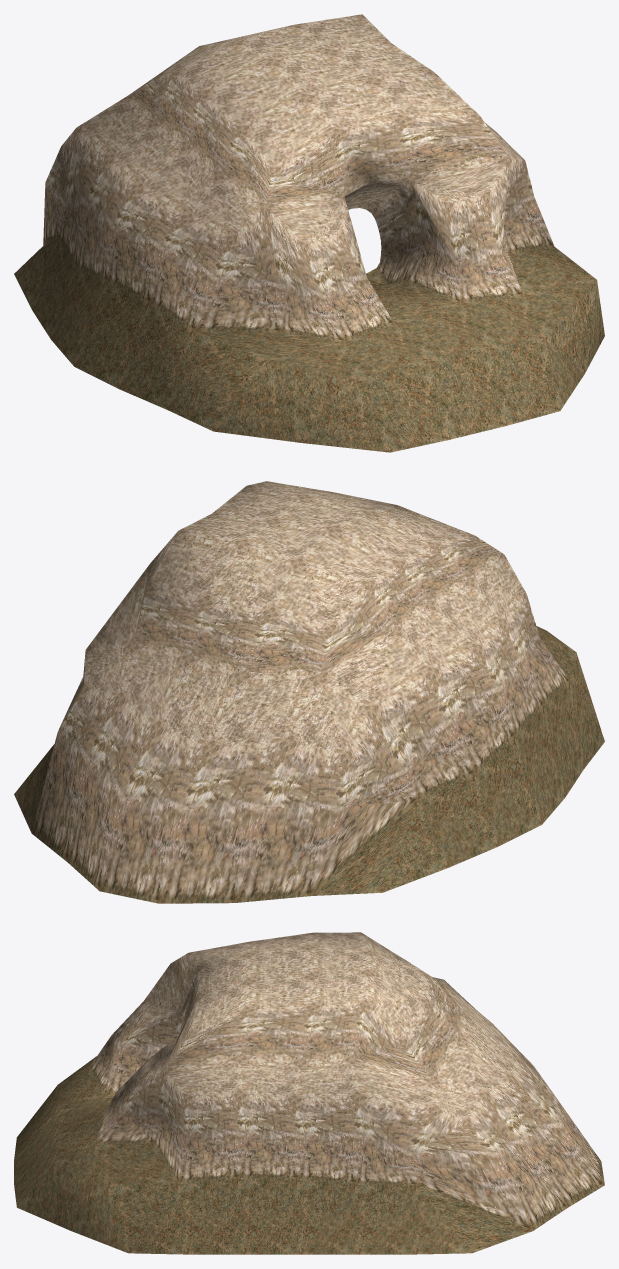
Rendered from thm_all_cave_flatland_s03_r0_mesh_l2.fbx.
3 views of the same model, one above another, from view 1: azimuth 30°, elevation 25°; view 2: azimuth 150°, elevation 25°; view 3: azimuth 270°, elevation 25° (orthographic). The views are drawn at different scales.
Parts seen in each view (by area): view 1: mesh_node; view 2: mesh_node; view 3: mesh_node.
Part boxes in pixels (x1,y1,x2,y2): mesh_node: (14,14,604,452); mesh_node: (14,481,604,903); mesh_node: (14,932,604,1254).
Bounding box in the file's own units: 56.42 × 31.42 × 78.77.
